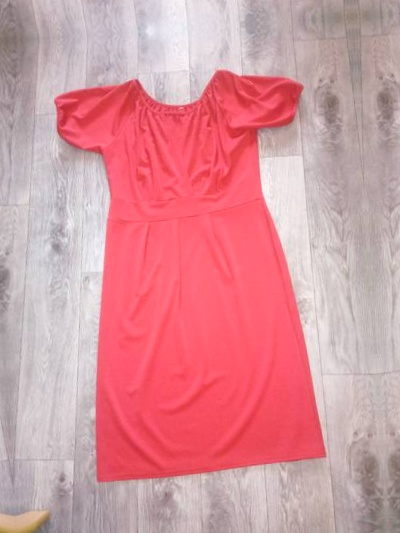Dress: (34, 42, 357, 494), (382, 18, 400, 470), (1, 0, 323, 14)
